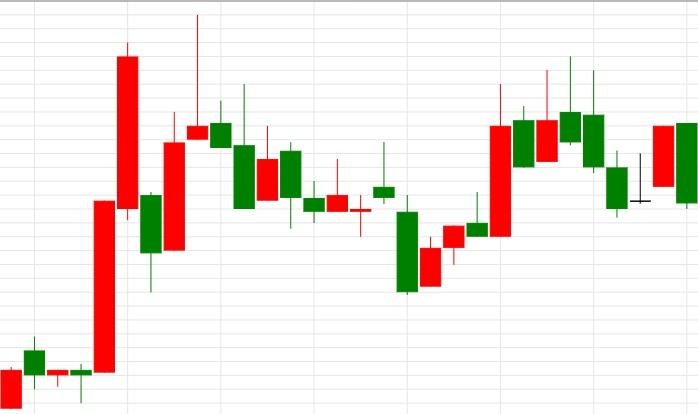shooting_star_fall: (420, 57, 581, 288)
